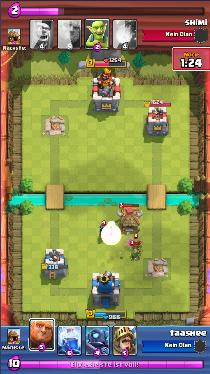enemy_goblin_hut: (115, 207, 143, 232)
enemy_spear_goblin: (130, 248, 142, 260)
